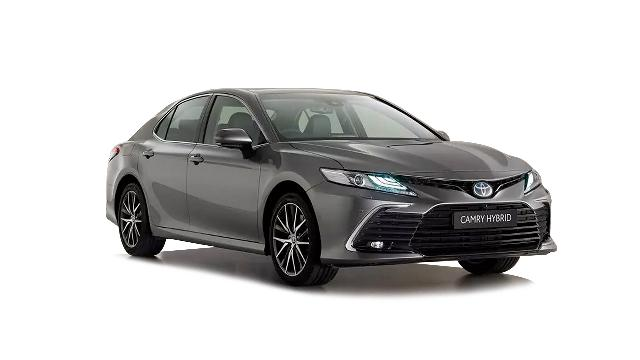toyota: (106, 87, 558, 287)
